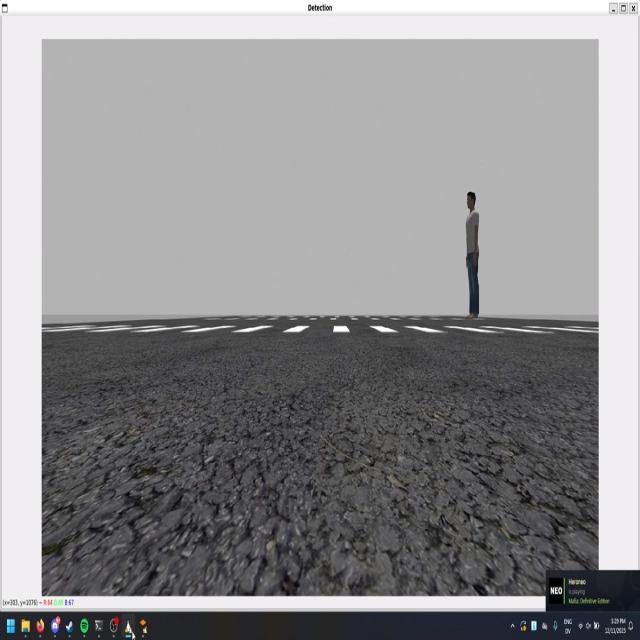crosswalk: (42, 324, 598, 332)
ped: (463, 188, 482, 322)
